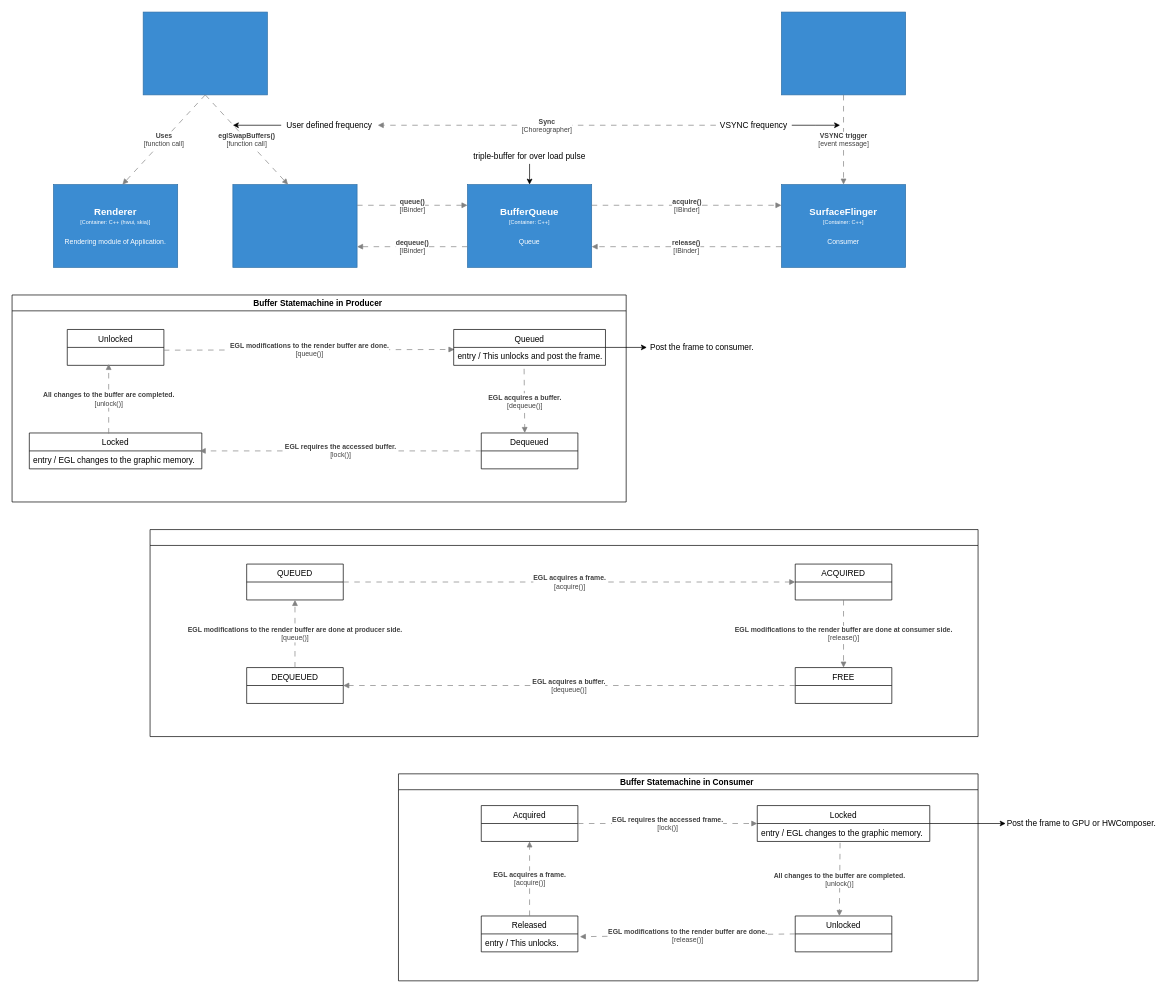
This 1170x993 diagram has some shape labels left out. The shapes that lost their labels are listed below. From the top down, each one's centre as x and y in pixels, then its label:
At point 204,53: "Logic and Algorithm [Container: JAVA, C++, Python] Application Logic Level.".
At point 843,53: "VSYNC [Container: C++] VSYNC Source".
At point 294,225: "Composer Client [Container: C++] Producer".
At point 563,633: "Buffer Statemachine in Queue".
